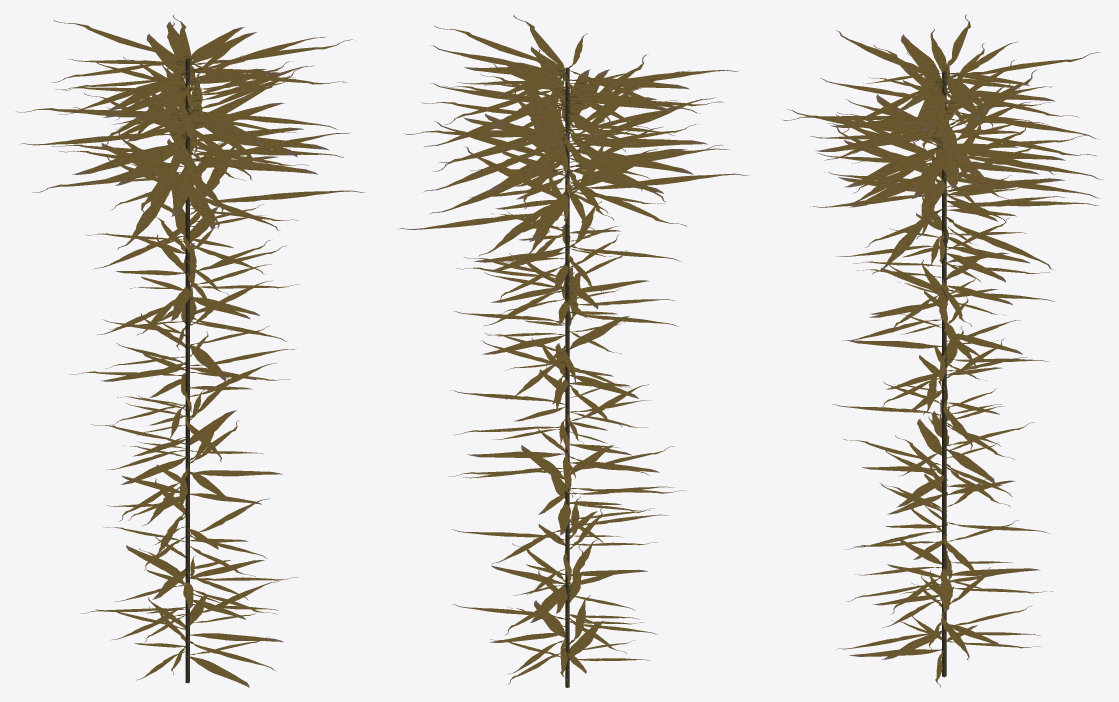
File: kelp_tall.glb
The picture shows the model from 3 angles, left to right: view 1: azimuth 30°, elevation 25°; view 2: azimuth 150°, elevation 25°; view 3: azimuth 270°, elevation 25°; orthographic projection. The views are drawn at different scales.
Visible parts, largest first — view 1: LOD0; view 2: LOD0; view 3: LOD0.
Boxes of the visible parts, x1,y1,x2,y2 form: LOD0: [16, 14, 364, 687]; LOD0: [397, 14, 748, 687]; LOD0: [782, 14, 1103, 687].
Size of what is drawn, in the model's own units: 4.49 by 9.2 by 4.48.
2 materials, 2 textured.
